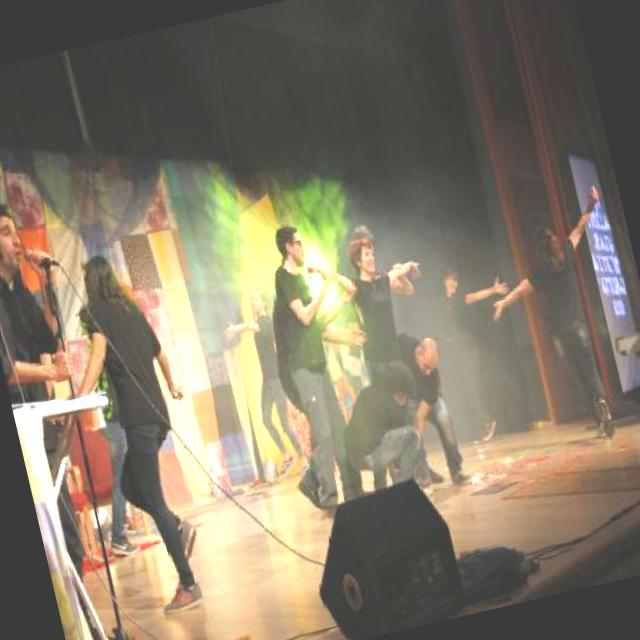Person: (45, 223, 220, 640), (0, 194, 139, 640), (467, 182, 640, 458), (254, 212, 400, 518), (426, 252, 542, 450), (302, 227, 442, 386), (214, 282, 310, 489), (327, 354, 439, 498), (391, 322, 478, 496)
